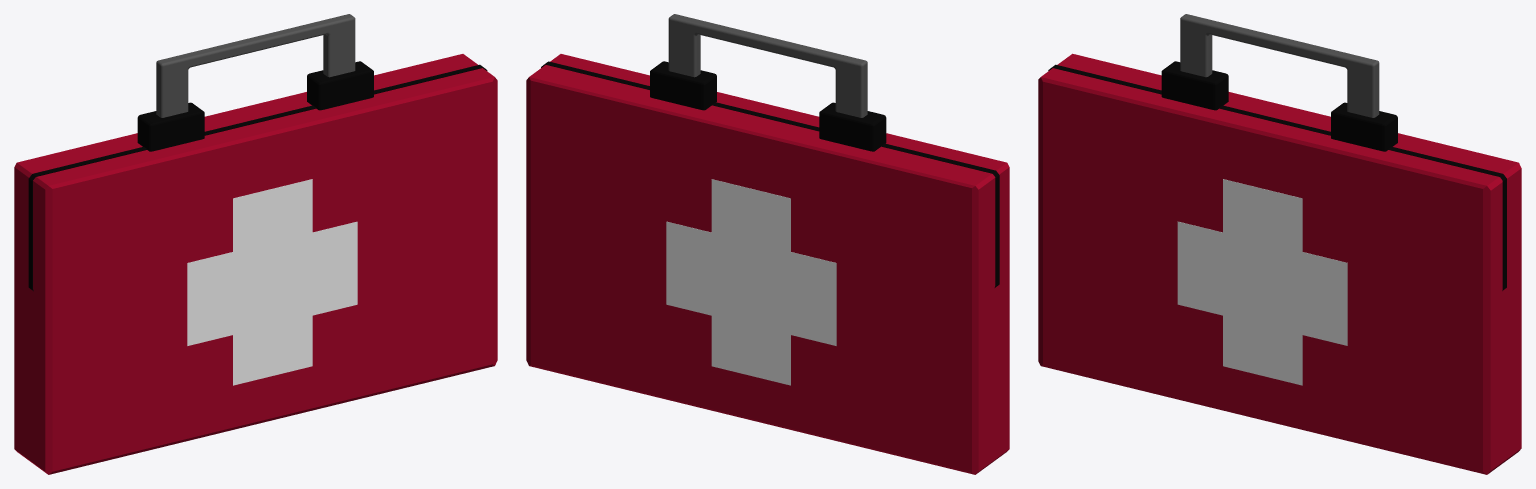
Rendered from med kit.fbx.
3 views of the same model, side by side, from view 1: azimuth 30°, elevation 25°; view 2: azimuth 150°, elevation 25°; view 3: azimuth 330°, elevation 25° (orthographic).
Visible parts, largest first — view 1: Plane, Cube, Cube.002, Cube.001, Plane.001; view 2: Plane, Cube, Cube.002, Cube.001, Plane.001; view 3: Plane, Cube, Cube.002, Cube.001, Plane.001.
Boxes of the visible parts, x1,y1,x2,y2 form: Plane: (14, 54, 497, 474); Cube: (187, 179, 357, 385); Cube.002: (156, 14, 355, 117); Cube.001: (137, 61, 373, 151); Plane.001: (28, 64, 487, 291); Plane: (526, 54, 1009, 474); Cube: (666, 179, 836, 385); Cube.002: (668, 14, 867, 117); Cube.001: (650, 61, 886, 151); Plane.001: (541, 61, 999, 287); Plane: (1038, 53, 1521, 474); Cube: (1177, 179, 1347, 385); Cube.002: (1180, 14, 1379, 117); Cube.001: (1161, 61, 1397, 151); Plane.001: (1048, 64, 1506, 290).
Size of the model in its own units: 817 by 635 by 105.
